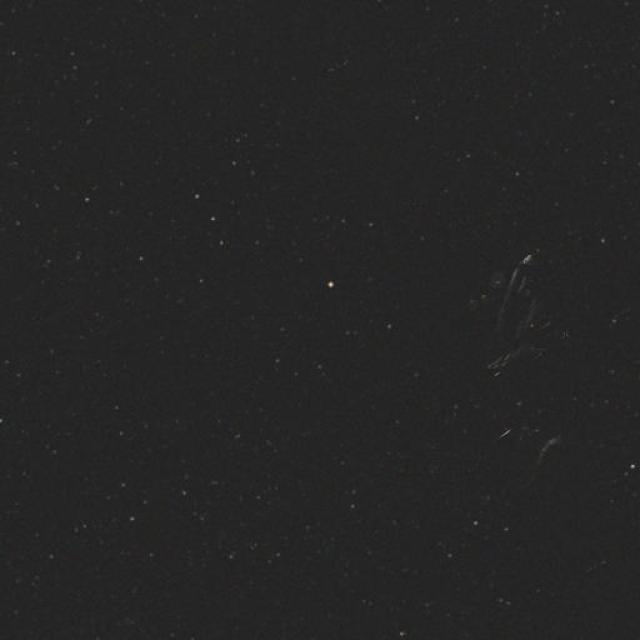smart_1: (457, 221, 640, 419)
